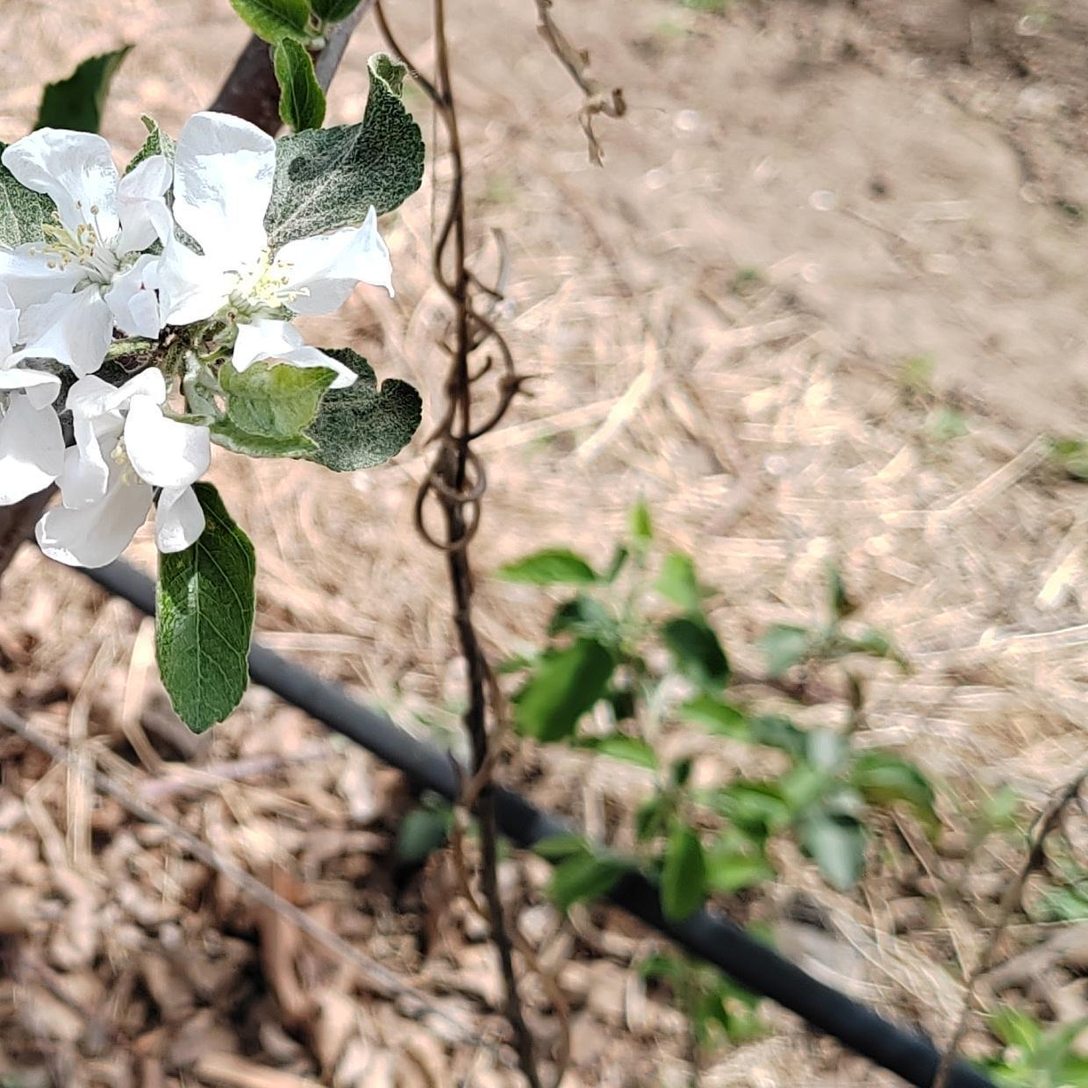apple_flower: (0, 103, 433, 412), (0, 215, 250, 612)
